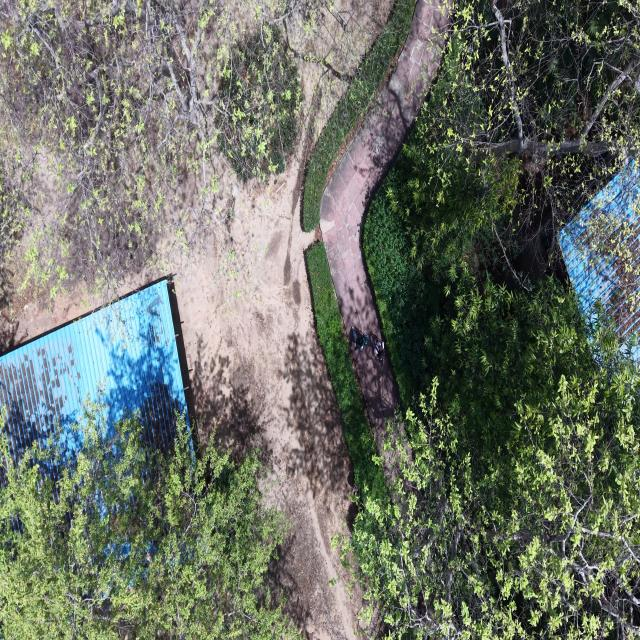DRY_AREA: (118, 72, 362, 639), (172, 159, 362, 639), (177, 159, 361, 639), (177, 207, 360, 639), (320, 0, 448, 336)
ROOFTOP_BUILDING: (0, 279, 188, 461), (0, 280, 188, 461), (559, 161, 639, 339)
VEGETATION_TREE: (350, 2, 639, 638), (352, 184, 639, 638), (365, 2, 639, 433), (0, 0, 384, 300), (365, 0, 639, 398), (0, 0, 299, 295), (353, 332, 639, 638), (0, 0, 293, 286), (0, 407, 297, 639), (365, 160, 582, 443), (0, 0, 213, 288), (408, 0, 639, 244), (434, 0, 638, 168), (302, 0, 415, 231), (306, 243, 387, 501), (363, 157, 440, 406), (217, 25, 301, 180), (0, 154, 33, 287)
